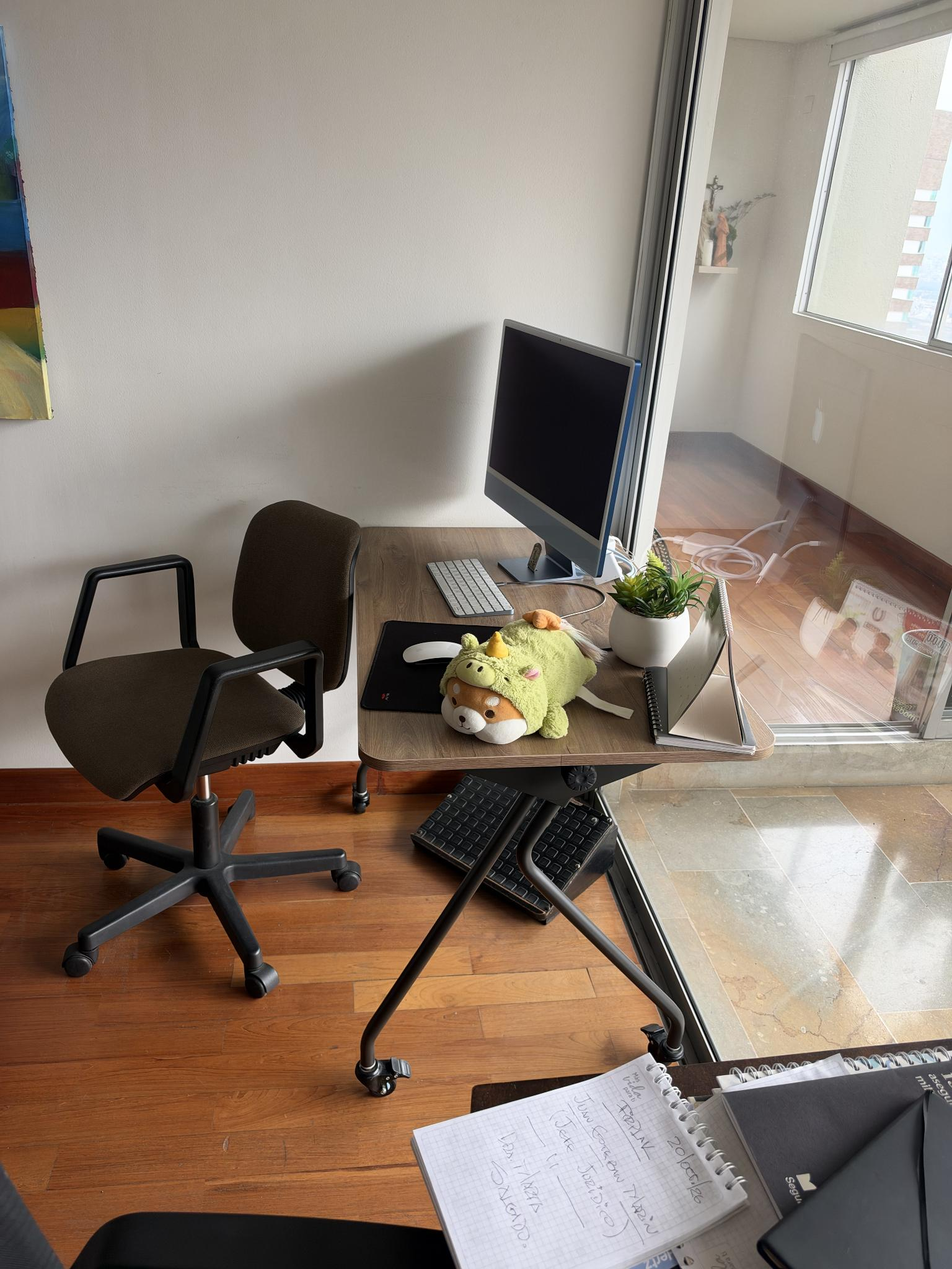peluche_martin: (438, 608, 608, 745)
